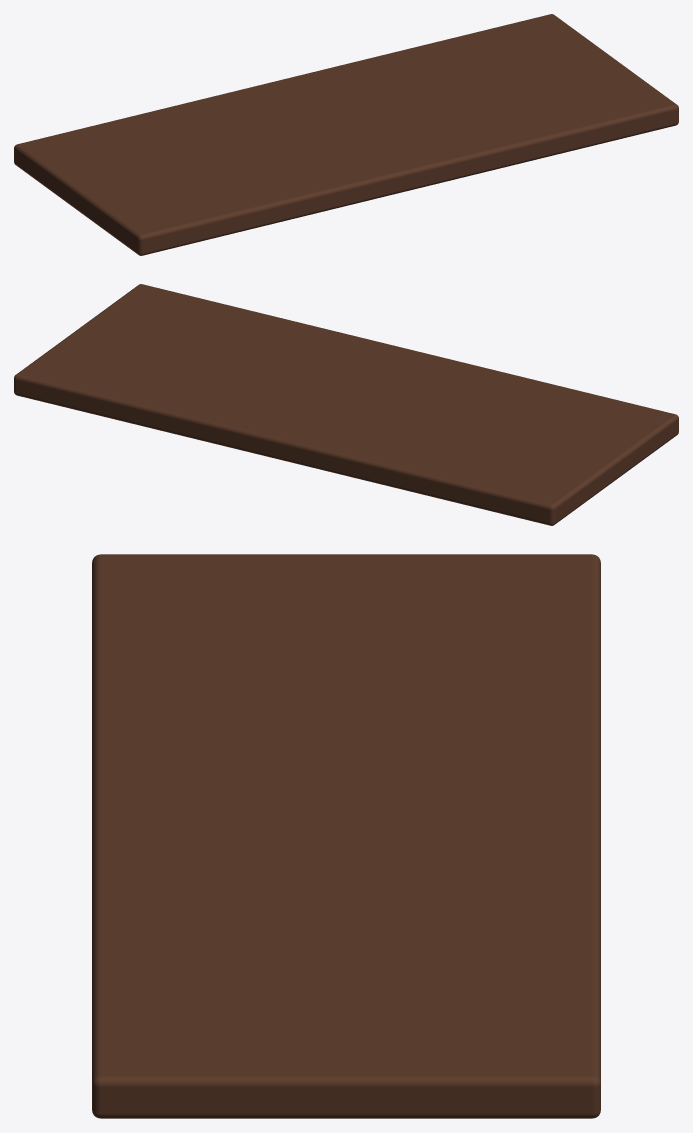
File: aria-sofa-base.glb
3 renders of one model, top to bottom at view 1: azimuth 30°, elevation 25°; view 2: azimuth 150°, elevation 25°; view 3: azimuth 270°, elevation 25°, orthographic. The views are drawn at different scales.
Parts seen in each view (by area): view 1: Base_rail; view 2: Base_rail; view 3: Base_rail.
Part boxes in pixels (x1,y1,x2,y2): Base_rail: (14, 14, 678, 255); Base_rail: (14, 284, 678, 525); Base_rail: (92, 554, 600, 1118).
Size of the model in its own units: 2.16 by 0.08 by 0.88.
